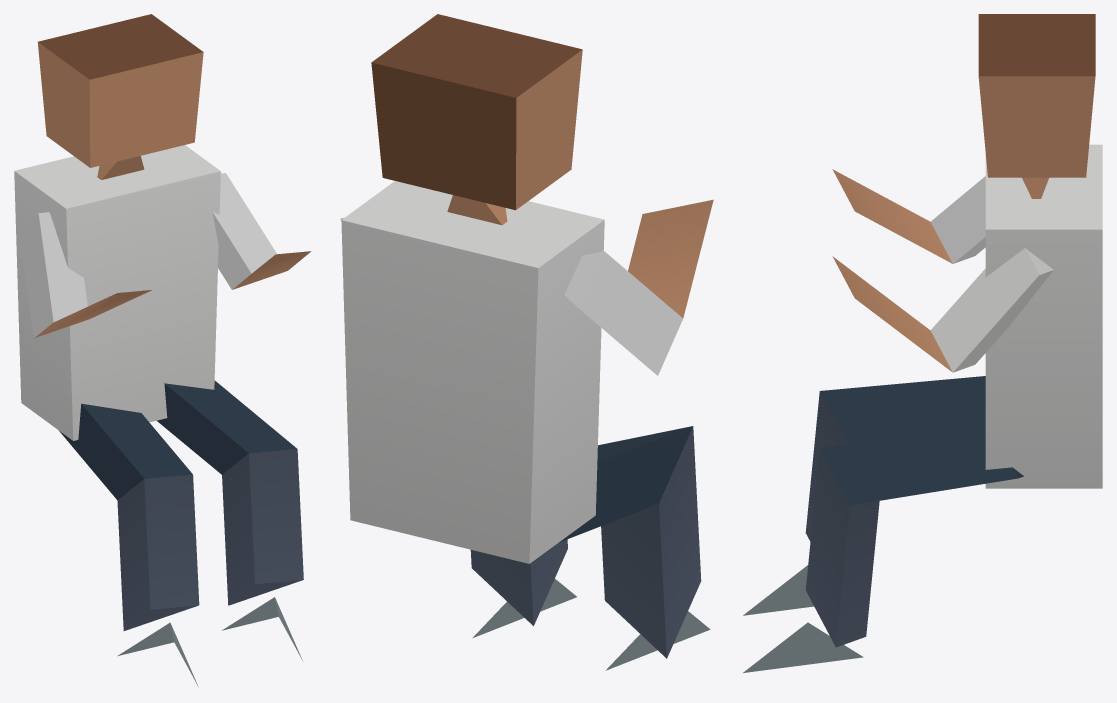
The model's file is fan-03.glb.
3 views of the same model, side by side, from view 1: azimuth 30°, elevation 25°; view 2: azimuth 150°, elevation 25°; view 3: azimuth 270°, elevation 25° (orthographic). The views are drawn at different scales.
Parts seen in each view (by area): view 1: fan-03; view 2: fan-03; view 3: fan-03.
Part boxes in pixels (<box>): fan-03: <box>14,14,311,686</box>; fan-03: <box>340,14,713,670</box>; fan-03: <box>743,14,1102,672</box>.
Size of the model in its own units: 0.6775 by 1.41 by 0.77.
